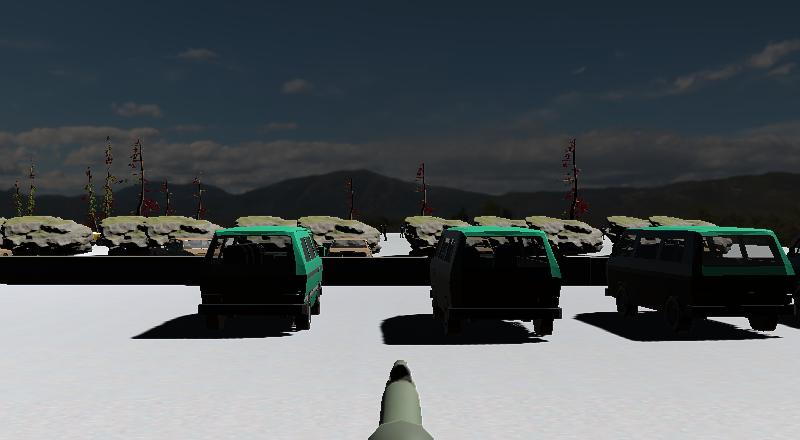car: (597, 213, 799, 357), (418, 216, 577, 359), (185, 218, 339, 357)
